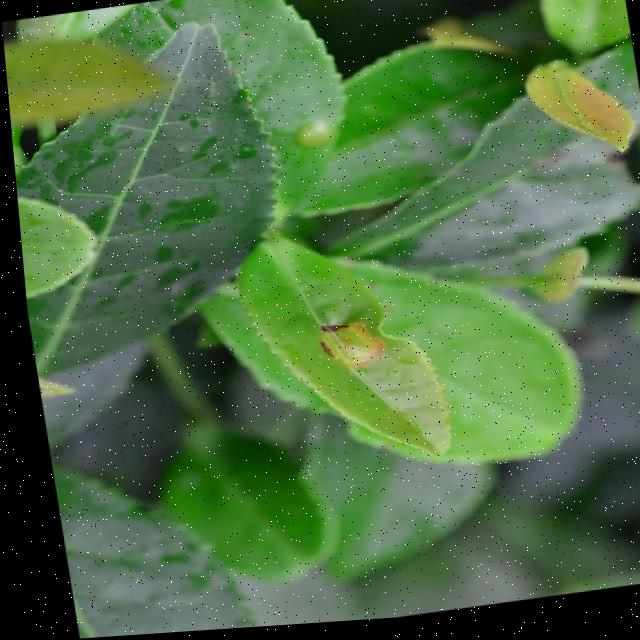Tea cake: (312, 318, 379, 380)
